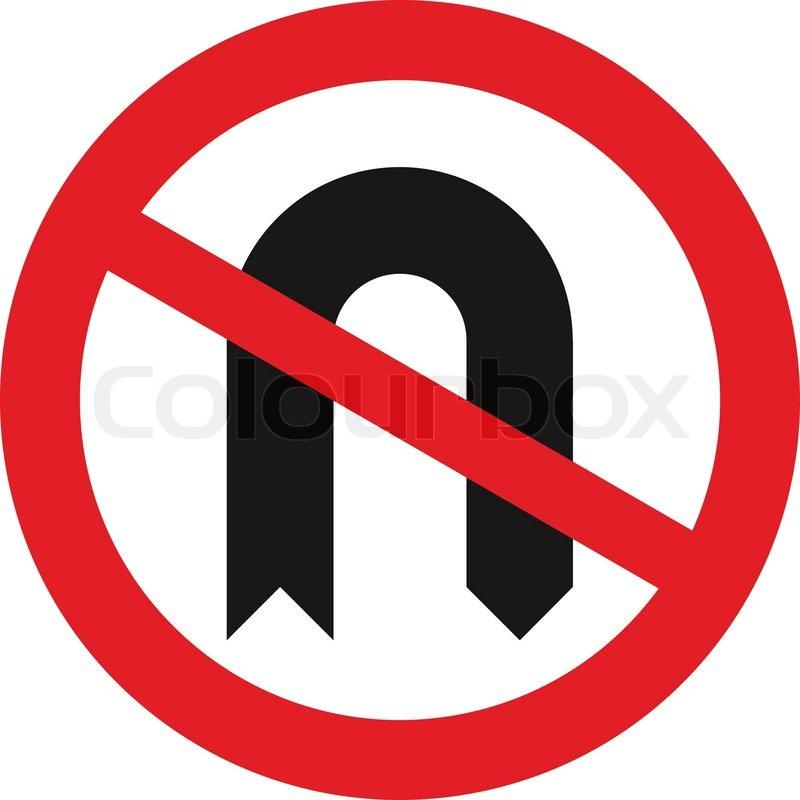no_u_turn: (4, 0, 797, 798)
